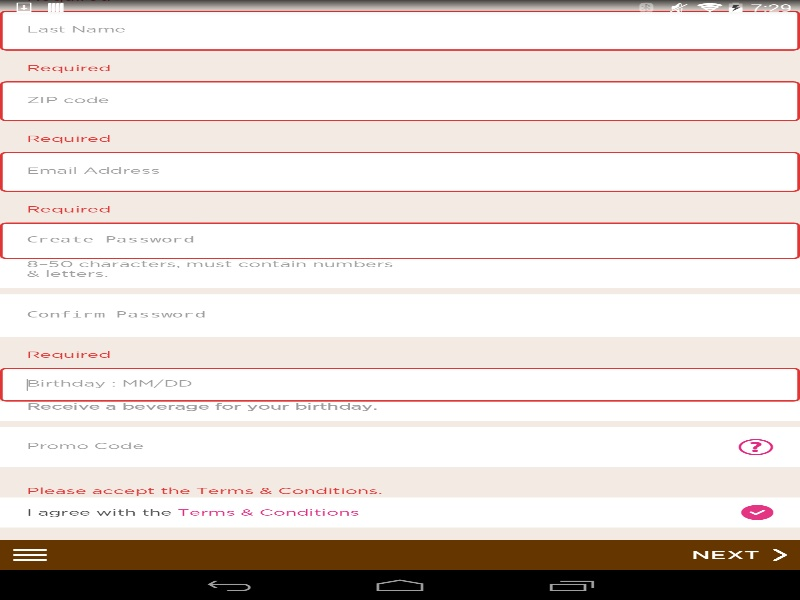Input: (26, 226, 773, 254), (26, 301, 773, 329), (26, 18, 773, 43), (26, 88, 773, 113), (26, 159, 773, 184), (26, 372, 773, 397), (26, 434, 773, 459)
